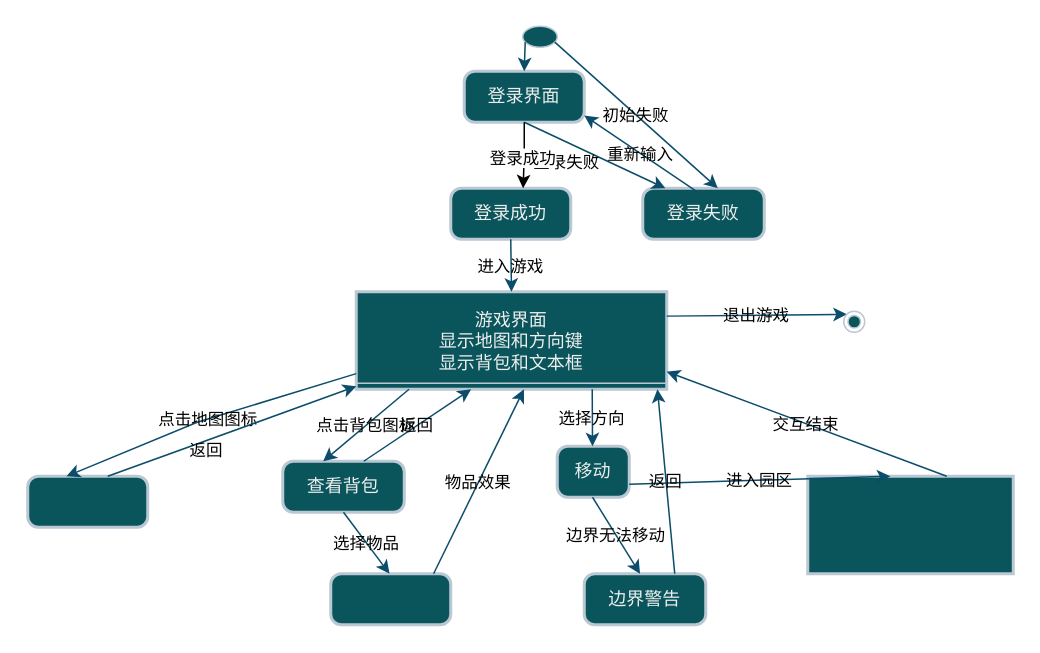
Some shapes in this 1040 by 653 pixel diagram are drawn without their labels. Here are the shapes that lost their labels. From the top down, the centre of each, then its label:
At (x=87, y=501): "查看地图".
At (x=910, y=524): "捡拾或投喂物品 描述效果".
At (x=390, y=599): "使用物品".
